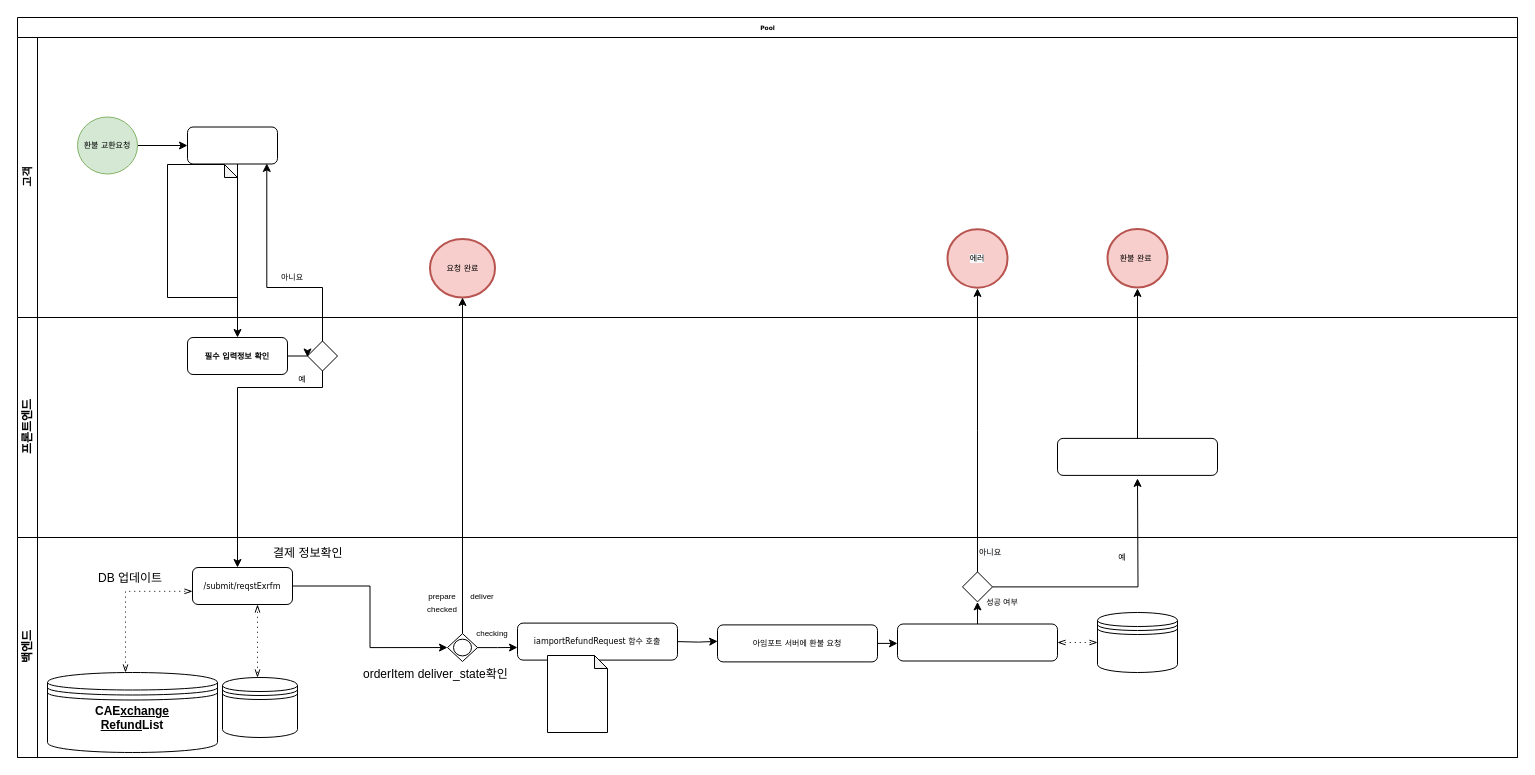
Some shapes in this 1535 by 775 pixel diagram are drawn without their labels. The shapes that lost their labels are listed below. From the top down, each one's centre as x and y in pixels, then its label:
At pixel 232 145: "환불 교환신청 작성".
At pixel 202 231: "customer orderNumber sellerCode rqstExrfn reason date_submitted problem_solved".
At pixel 1137 456: "결제 완료 프로세스".
At pixel 977 642: "해당 OrderItem의 deliverState 변경".
At pixel 1137 642: "orderItem".
At pixel 260 707: "orderItem, orderHistory".
At pixel 577 693: "refundAmount orderNumber reason checkSum".
